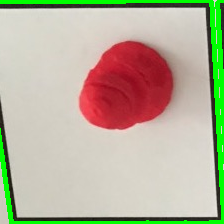Red Bishop: (75, 36, 178, 132)
